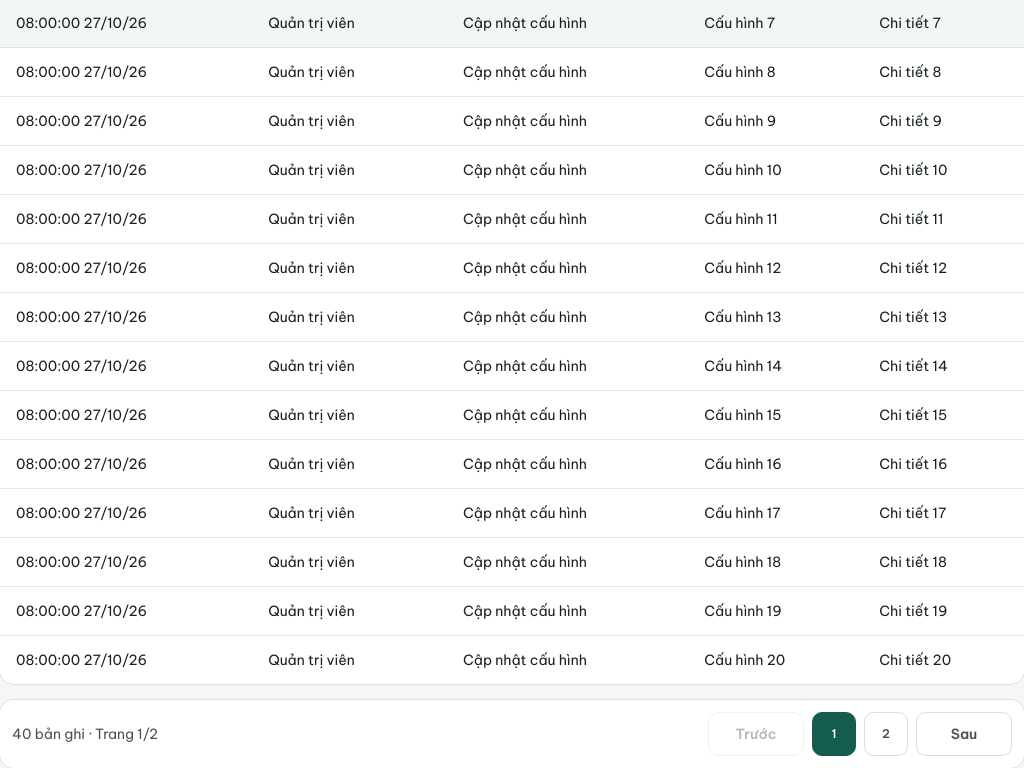
Test case: AdminAuditLogs pagination › tự quay về trang hợp lệ cuối cùng khi dữ liệu giảm làm trang hiện tại vượt giới hạn
(page scrolled)
Expected: the text "40 bản ghi · Trang 1/2" is shown, 12,724 -> 158,744
Click the button named "Trang 2": (886, 734) 864,712 -> 908,756
(page scrolled)
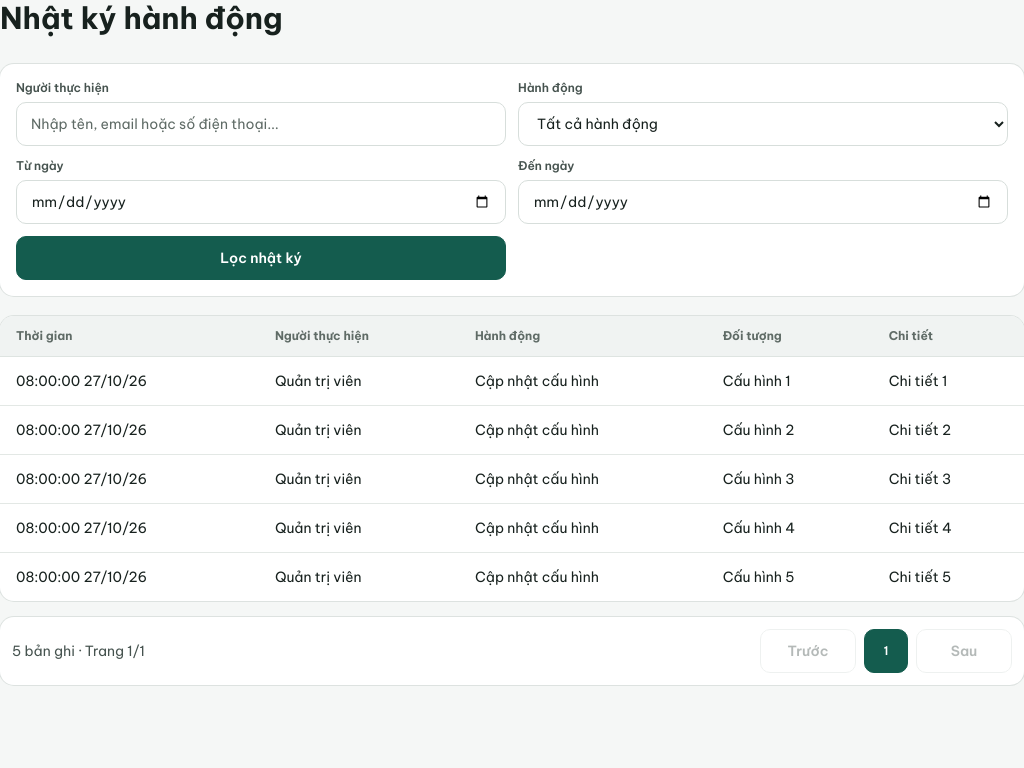
Expected: the text "Cấu hình 1" is shown, 707,356 -> 873,406
Expected: the text "5 bản ghi · Trang 1/1" is shown, 12,641 -> 145,661
